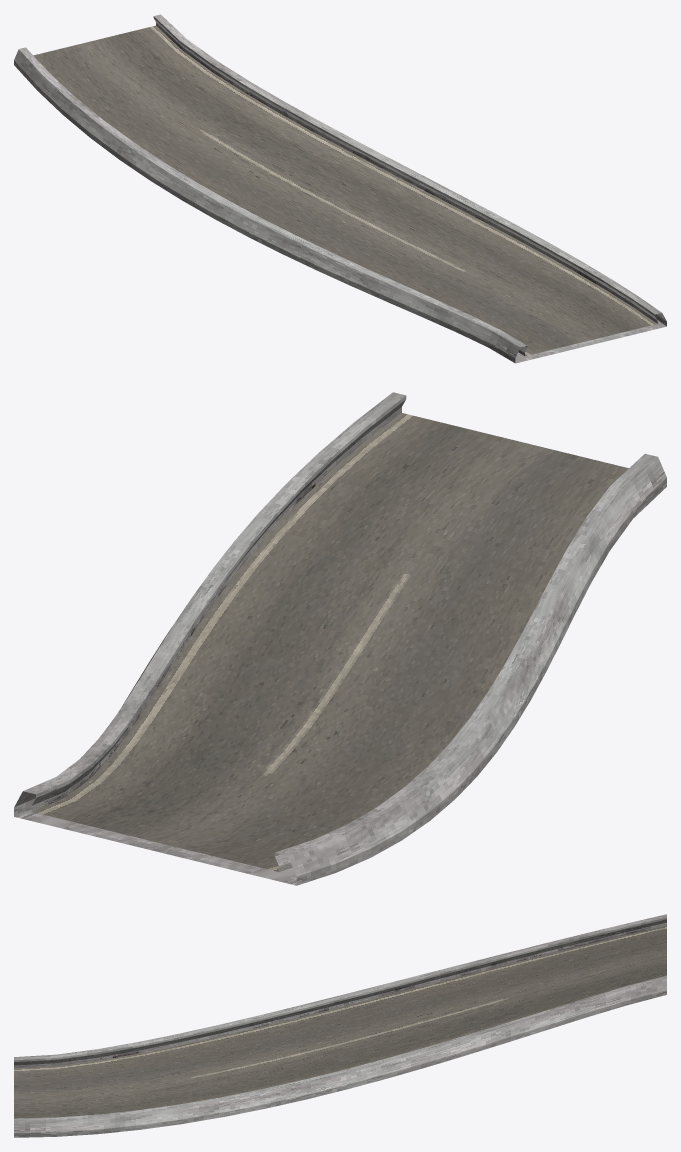
The model's file is road-Chicane-Flat-BiSlopeUp-Up2-Left1-Size4.glb.
3 views of the same model, one above another, from view 1: azimuth 30°, elevation 25°; view 2: azimuth 150°, elevation 25°; view 3: azimuth 270°, elevation 25° (orthographic). The views are drawn at different scales.
Visible parts, largest first — view 1: road-Chicane-Flat-BiSlopeUp-Up2-Left1-Size4; view 2: road-Chicane-Flat-BiSlopeUp-Up2-Left1-Size4; view 3: road-Chicane-Flat-BiSlopeUp-Up2-Left1-Size4.
Part boxes in pixels (box(x1,y1,x2,y2)): road-Chicane-Flat-BiSlopeUp-Up2-Left1-Size4: box(14, 14, 666, 363); road-Chicane-Flat-BiSlopeUp-Up2-Left1-Size4: box(14, 392, 666, 885); road-Chicane-Flat-BiSlopeUp-Up2-Left1-Size4: box(14, 914, 666, 1137).
Size of the model in its own units: 2 by 0.5938 by 4.
2 materials, 2 textured.
